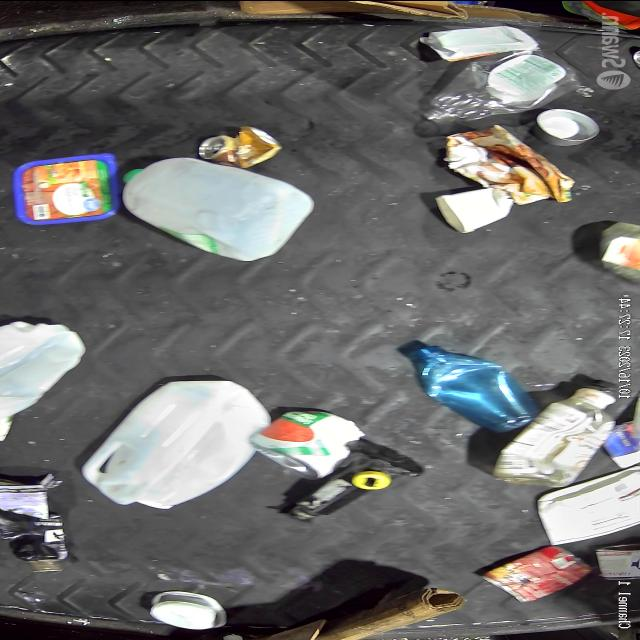can: (258, 405, 368, 474), (480, 540, 596, 598), (198, 123, 298, 168), (146, 586, 234, 629)
milk_jug: (84, 376, 268, 508), (123, 156, 317, 264), (0, 319, 96, 440)
